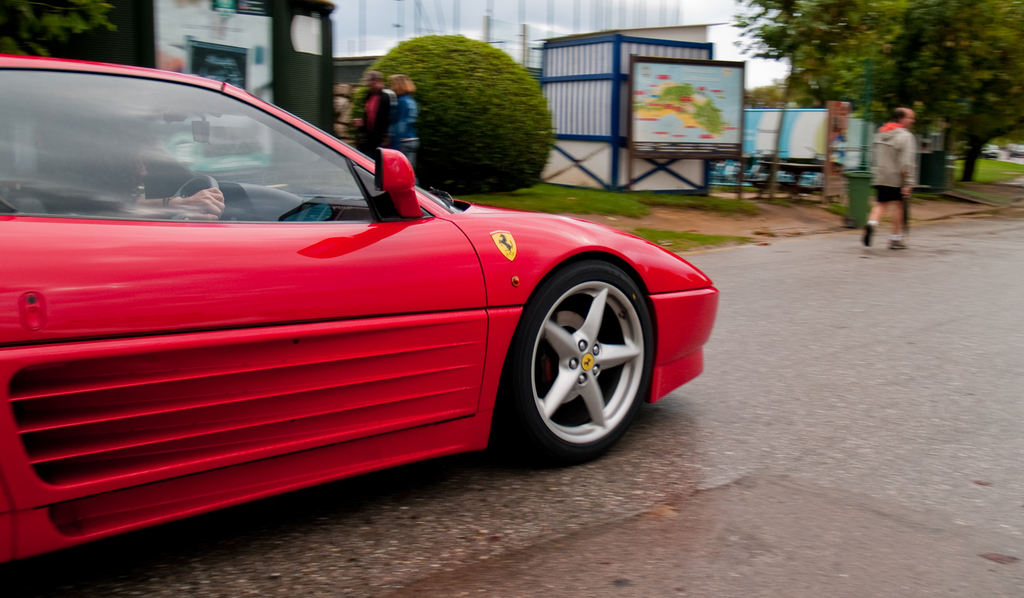Person: (40, 98, 226, 223), (859, 107, 915, 253), (354, 68, 392, 155), (387, 73, 415, 165)
